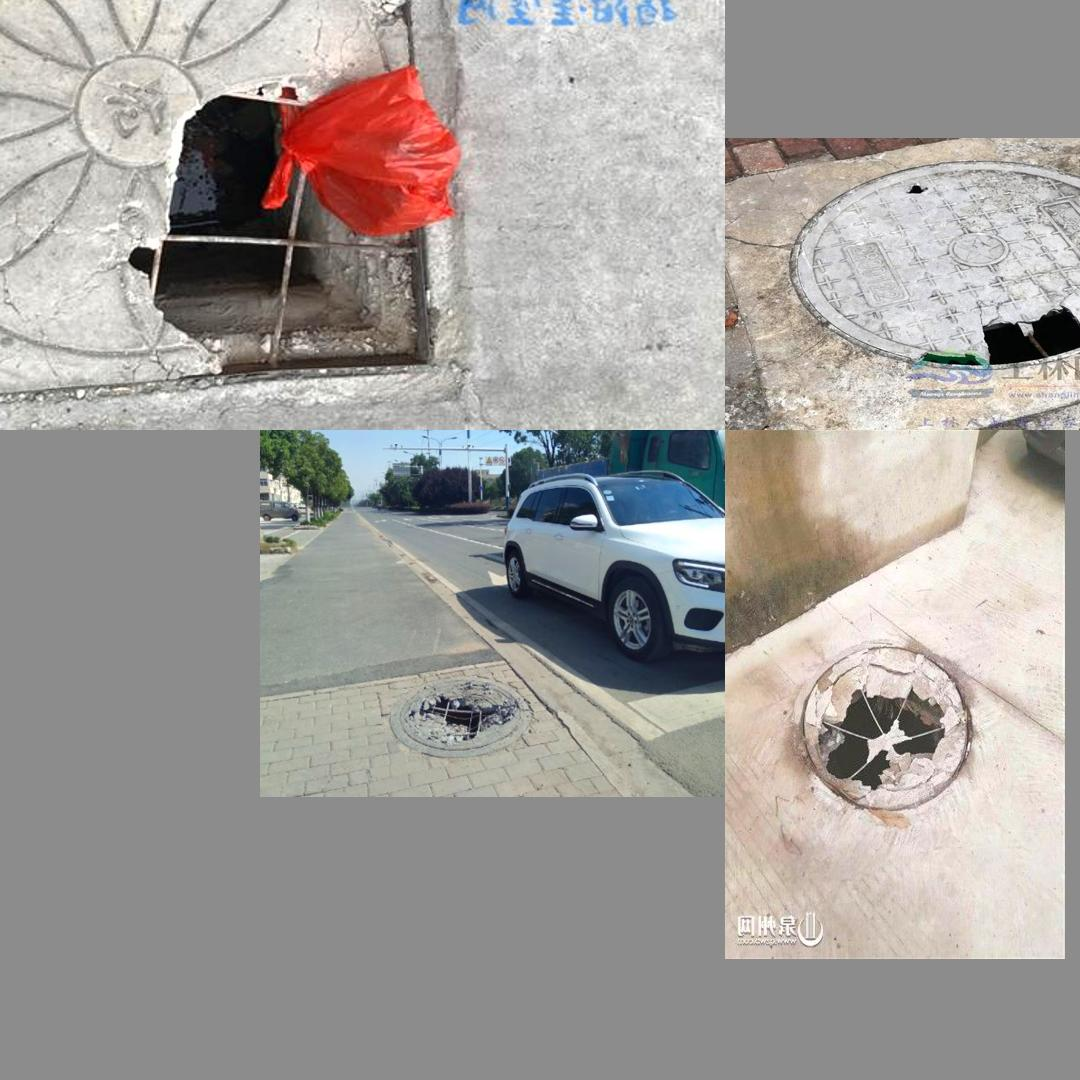broke: (0, 0, 528, 430), (777, 159, 1080, 382), (782, 626, 984, 825), (390, 676, 532, 757)
